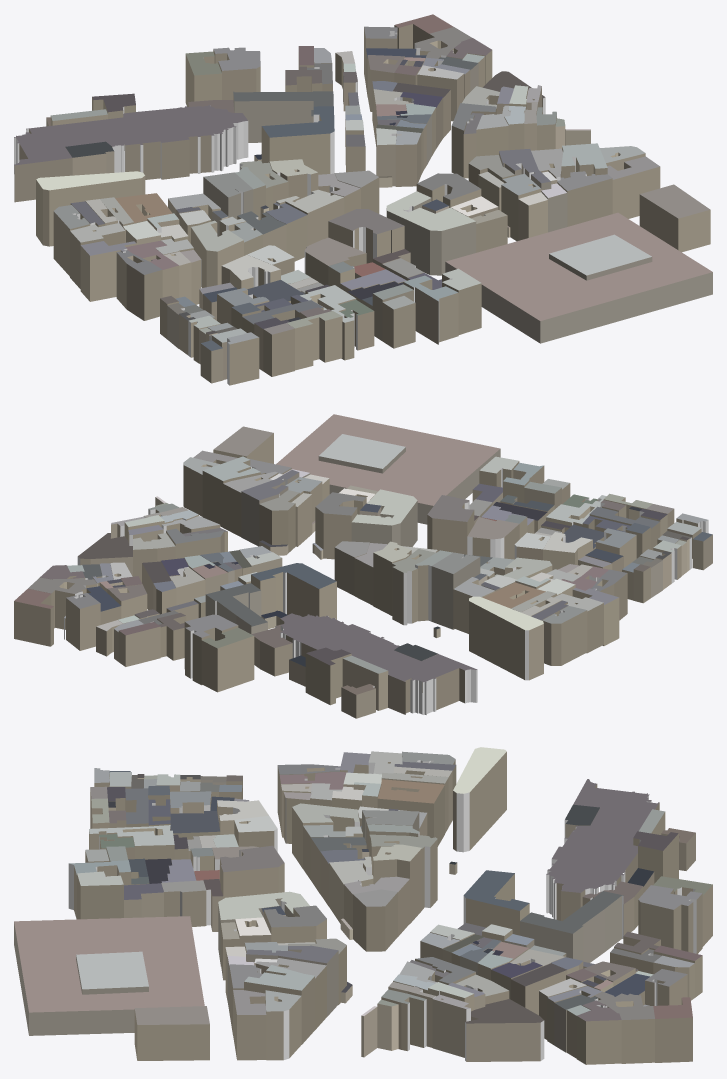
3 views of the same model, one above another, from view 1: azimuth 30°, elevation 25°; view 2: azimuth 150°, elevation 25°; view 3: azimuth 270°, elevation 25° (orthographic). The views are drawn at different scales.
Parts seen in each view (by area): view 1: tuile; view 2: tuile; view 3: tuile.
Boxes of the visible parts, x1,y1,x2,y2 form: tuile: [14, 14, 712, 385]; tuile: [14, 414, 712, 718]; tuile: [14, 747, 712, 1064].
Bounding box in the file's own units: 266 × 32.5 × 297.
